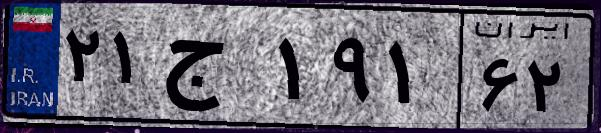1: (270, 28, 330, 110), (385, 28, 445, 110), (110, 28, 158, 98)
2: (57, 26, 110, 100), (525, 38, 570, 115)
6: (475, 38, 525, 113)
9: (330, 28, 385, 110)
ج: (158, 20, 270, 120)
